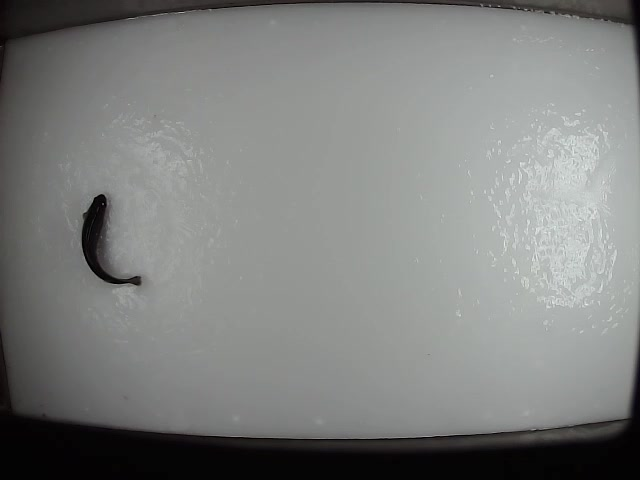fish: (80, 193, 144, 288)
